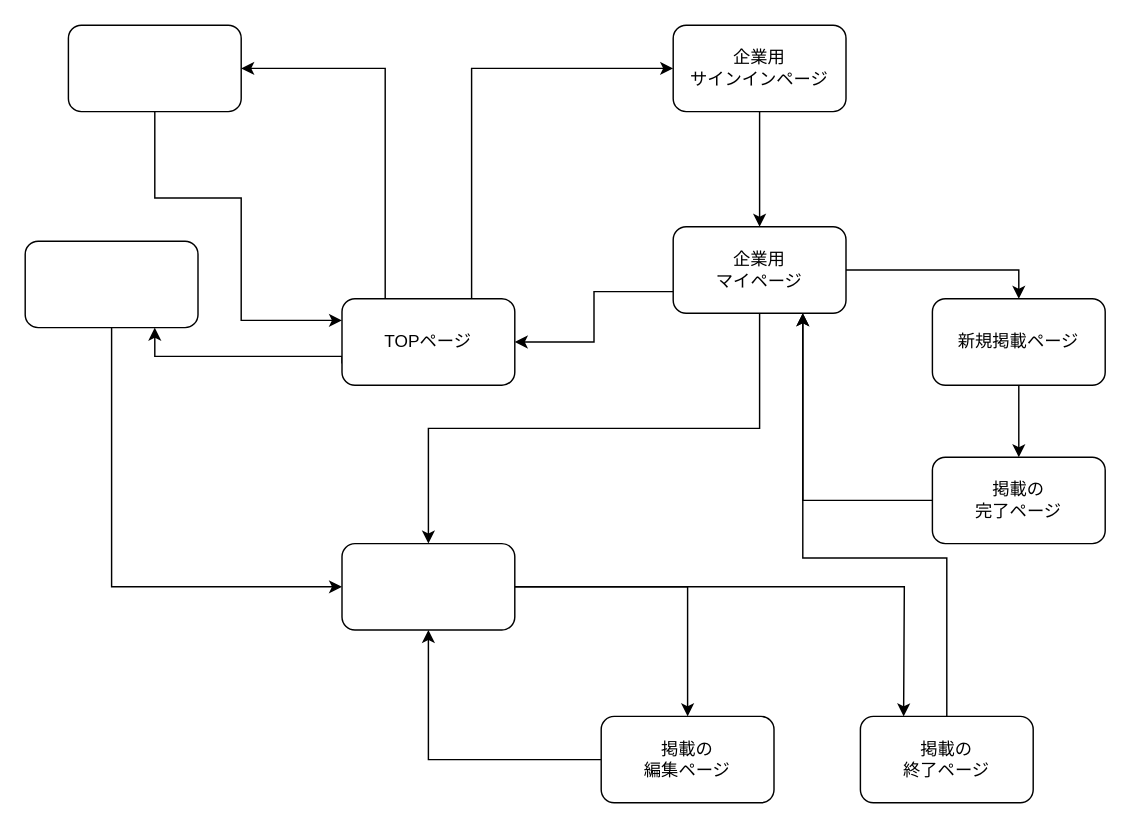
Image size: 1130x828. Some labels were removed from this diagram. The centre of each missing label's shape, as x and y in pixels:
ユーザー用 サインインページ: the point at 154,68
ユーザー用 マイページ: the point at 111,284
掲載の 詳細ページ: the point at 428,586
